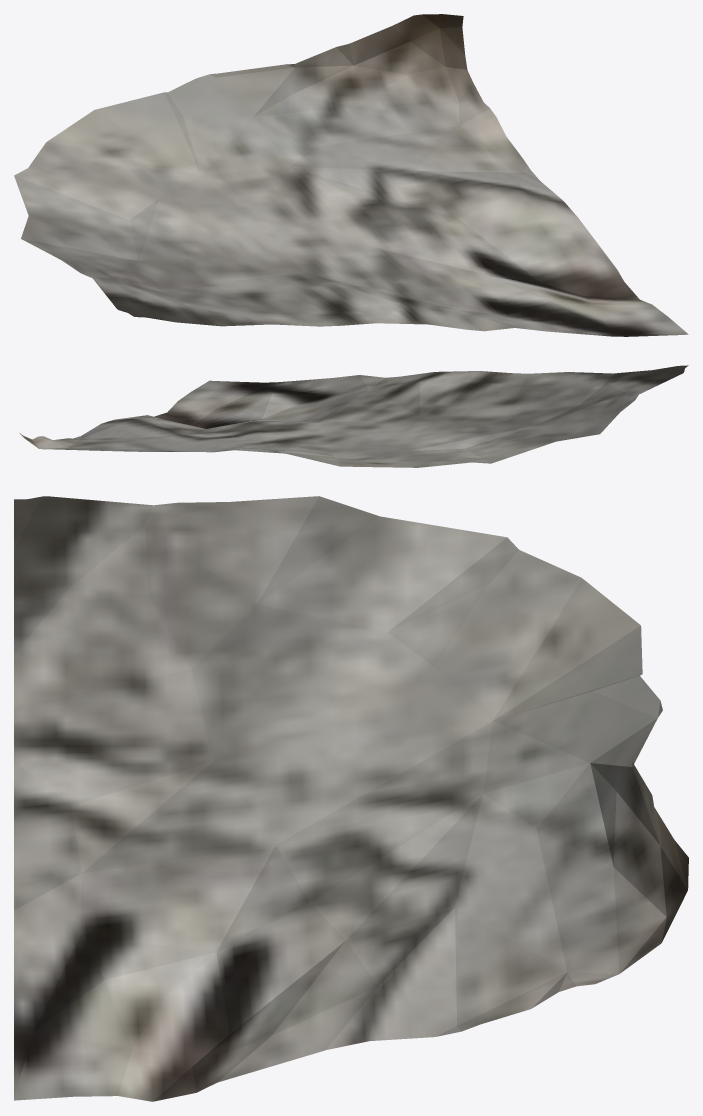
The picture shows the model from 3 angles, top to bottom: view 1: azimuth 30°, elevation 25°; view 2: azimuth 150°, elevation 25°; view 3: azimuth 270°, elevation 25°; orthographic projection. The views are drawn at different scales.
Size of the model in its own units: 0.5269 by 0.1388 by 0.3884.
Materials: 1 (1 with a texture image).
